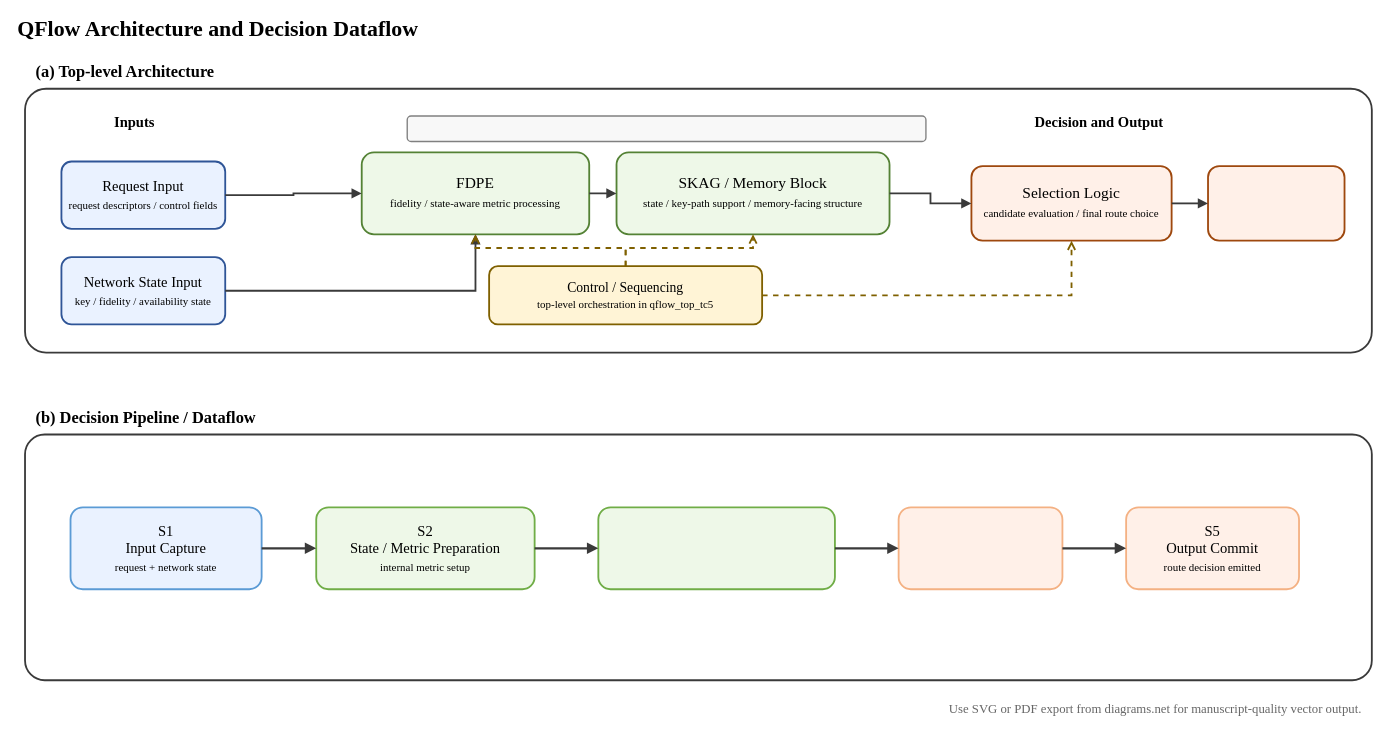
Some shapes in this 1388 by 735 pixel diagram are drawn without their labels. Here are the shapes that lost their labels. From the top down, the box of each, then its label:
(406, 115, 926, 142): Implementation alignment: qflow_top_tc5 integrates fdpe_tc5 and skag_mem_tc4
(1207, 165, 1345, 241): Route Decision Output selected route / next-hop action
(597, 506, 835, 590): S3 Scoring / Candidate Evaluation route-related score comparison
(897, 506, 1063, 590): S4 Selection final route choice
